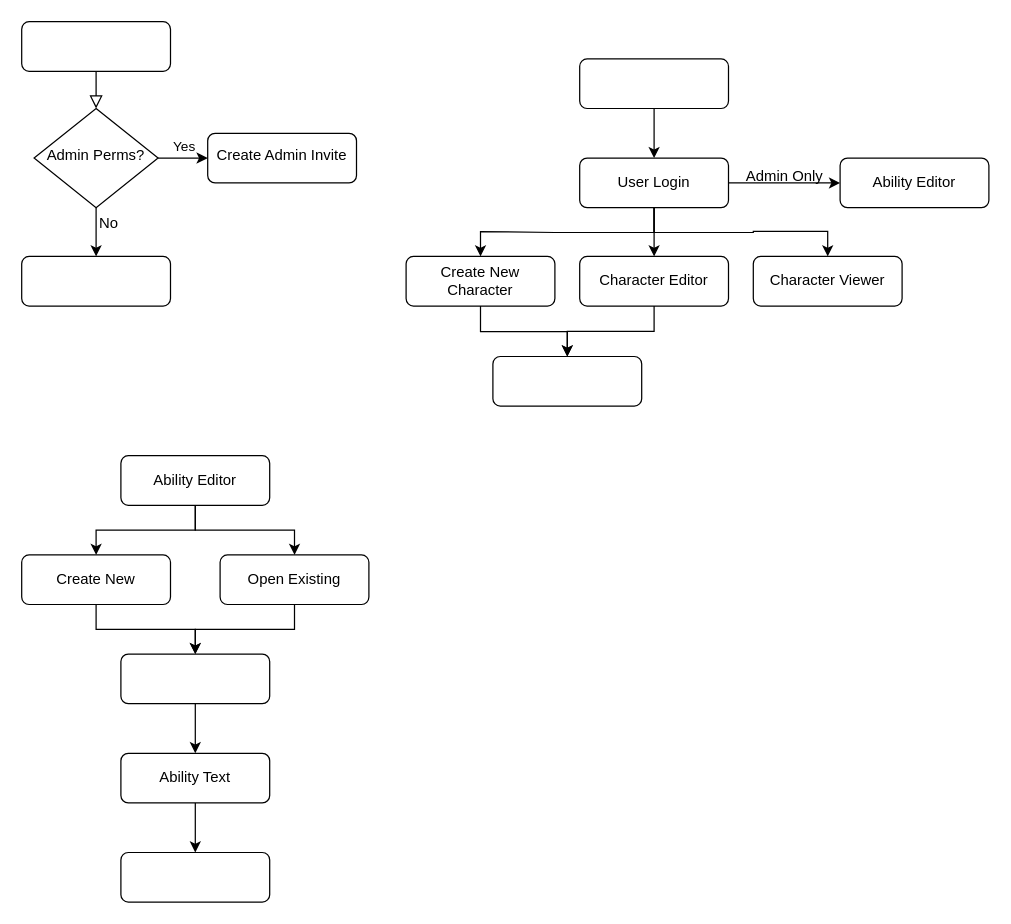
Some shapes in this 1011 by 924 pixel diagram are drawn without their labels. Each missing label, with the centre of its shape:
"Ability Triggers" goes at [195,876].
"Basic Info Form" goes at [195,678].
"Character Form" goes at [567,380].
"Create User Invite" goes at [95,280].
"Home Page" goes at [653,83].
"Invite Creation" goes at [95,45].
